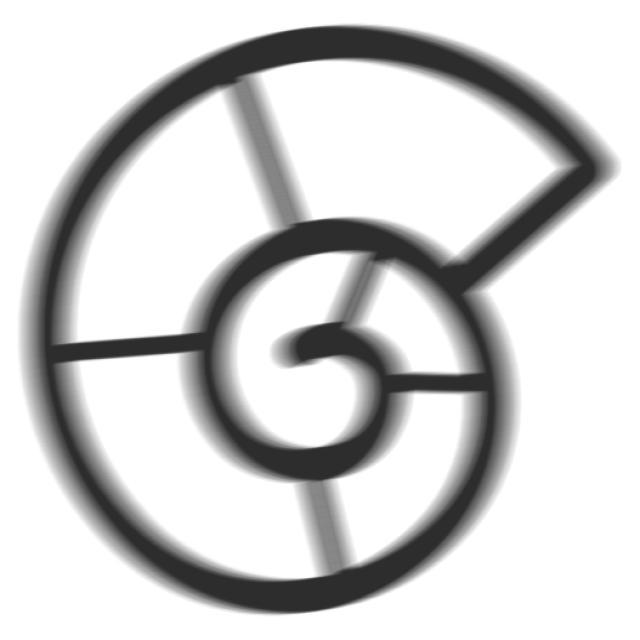fossil: (10, 9, 633, 632)
